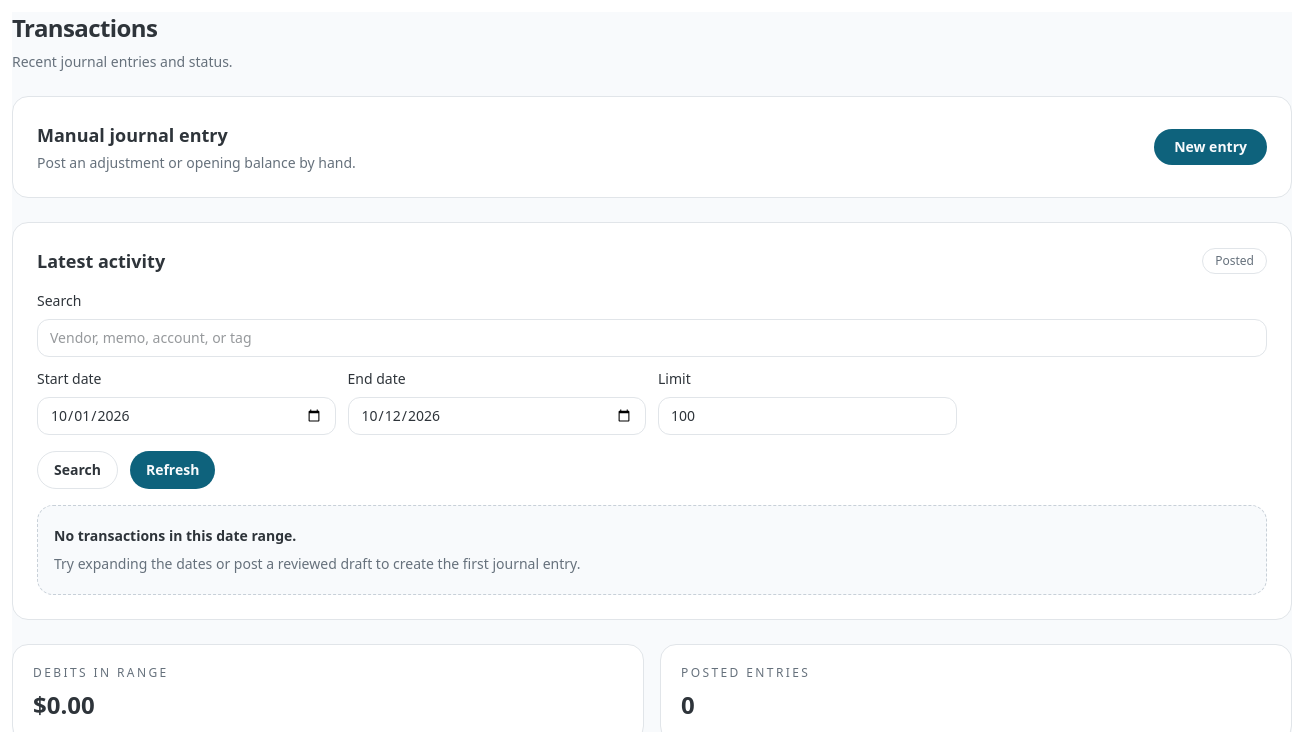
Transactions page › searches indexed transactions through the shared API client
Expected: the text "No transactions in this date range." is shown, x1=54 y1=526 x2=296 y2=545
In the search field labelled "Search": (652, 338) x1=37 y1=319 x2=1267 y2=357, type "internet"
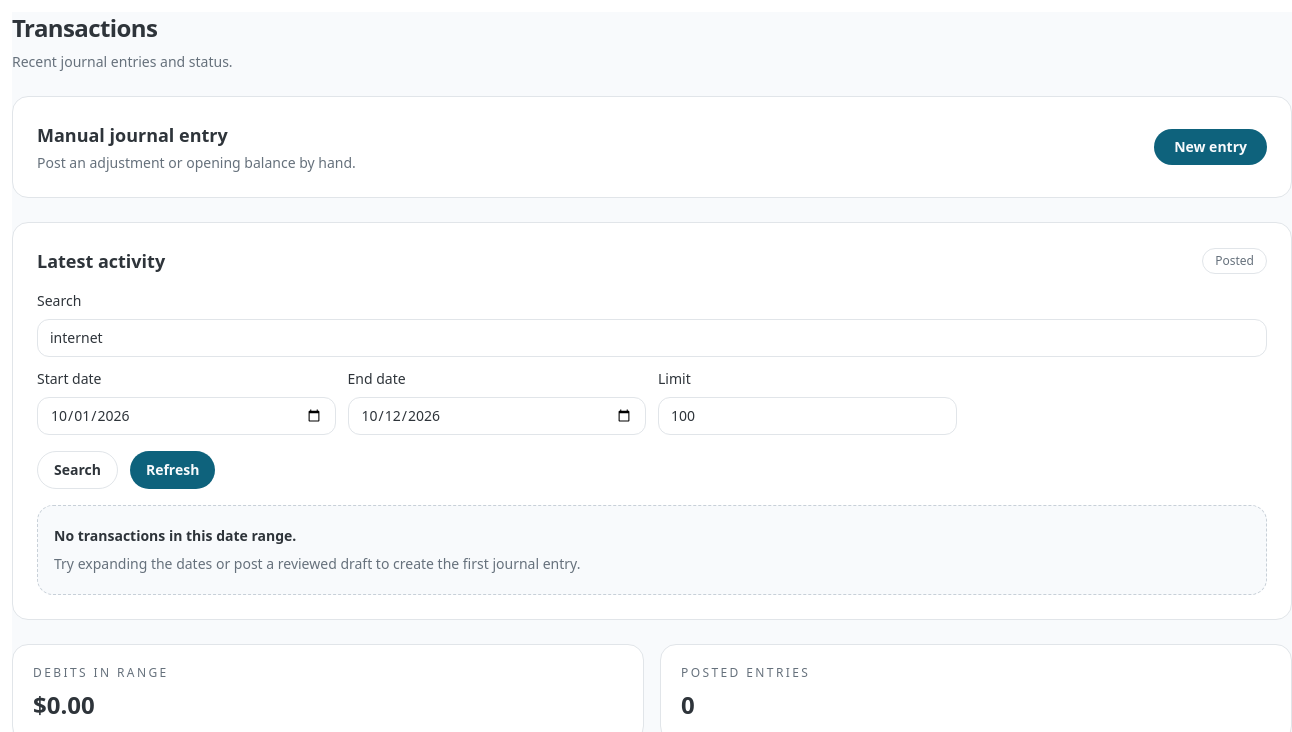
Click the button "Search": (77, 470) x1=37 y1=451 x2=118 y2=489
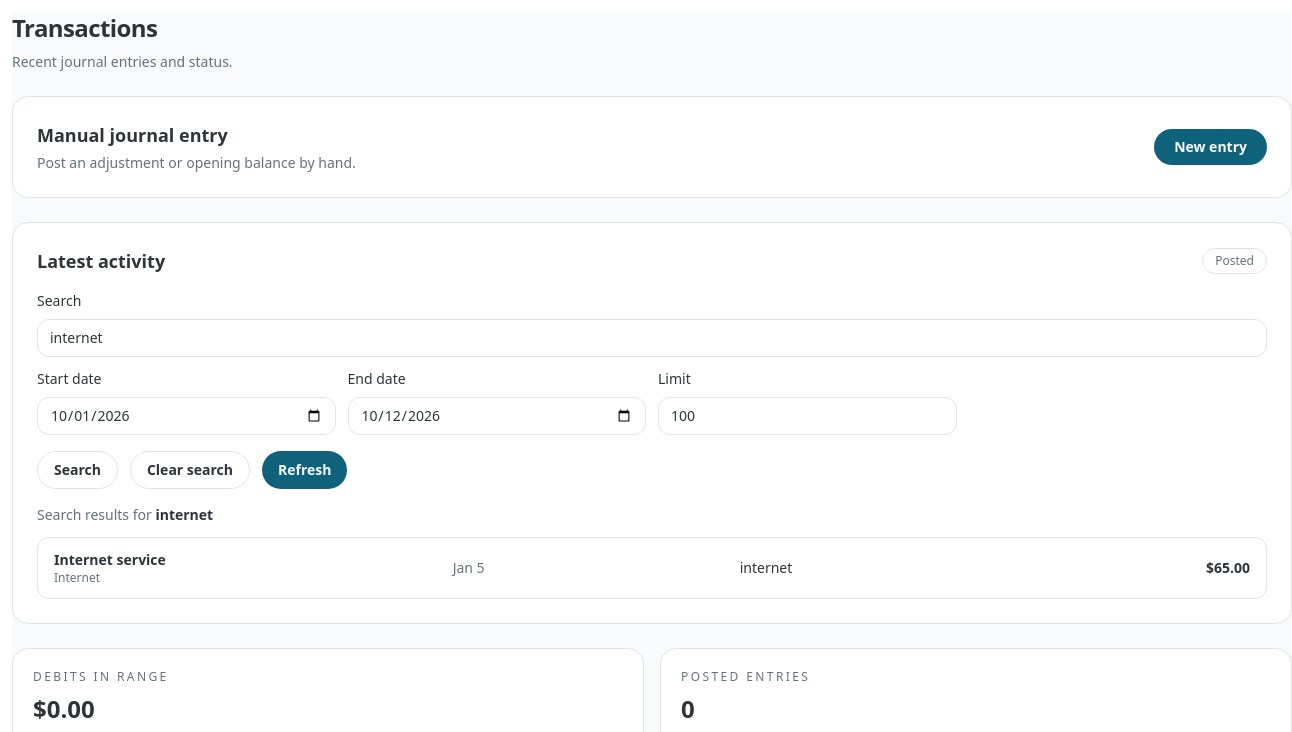
Expected: the text "Internet service" is shown, x1=54 y1=550 x2=166 y2=569
Expected: the text "Internet" is shown, x1=54 y1=569 x2=100 y2=586
Expected: the text "$65.00" is shown, x1=1206 y1=558 x2=1250 y2=577
